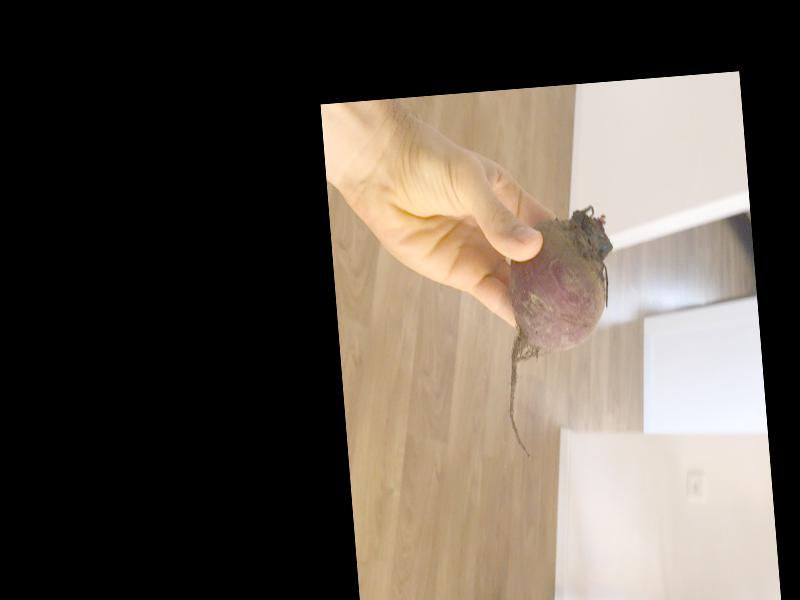Beet: (494, 207, 627, 459)
